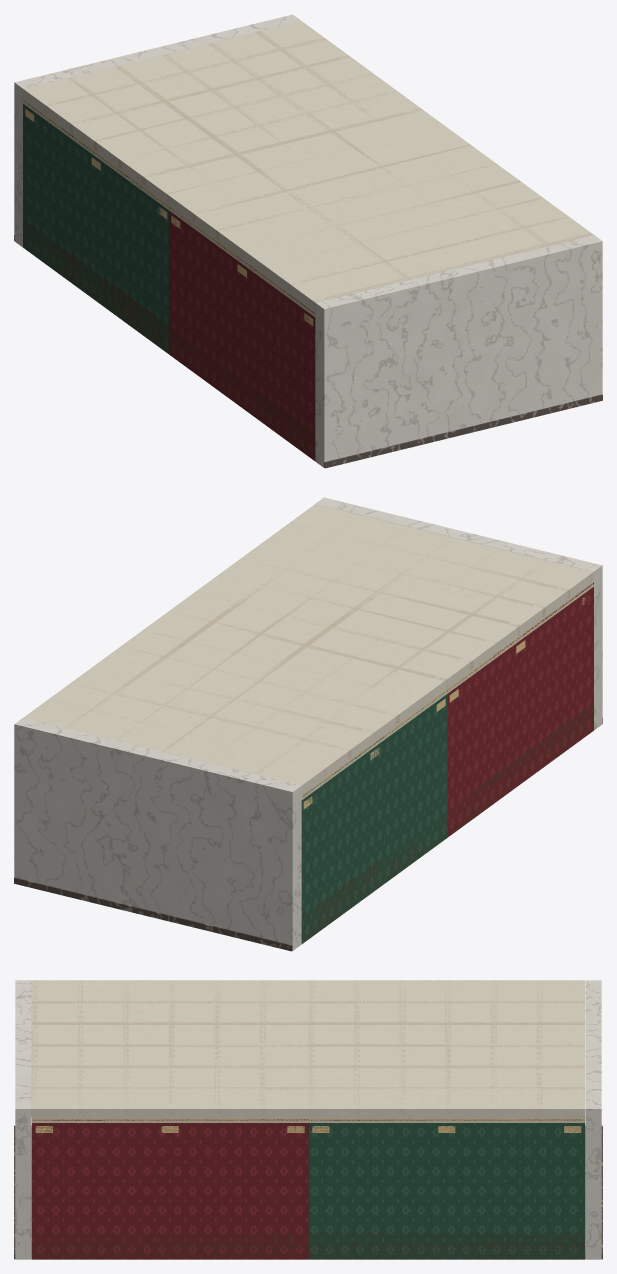
The model's file is european.glb.
3 views of the same model, one above another, from view 1: azimuth 30°, elevation 25°; view 2: azimuth 150°, elevation 25°; view 3: azimuth 270°, elevation 25° (orthographic). The views are drawn at different scales.
Parts seen in each view (by area): view 1: ceil, stone, walls, gold; view 2: ceil, stone, walls, gold; view 3: ceil, walls, stone, gold.
Part boxes in pixels (x1,y1,x2,y2): ceil: (23, 21, 593, 316); stone: (14, 14, 602, 468); walls: (23, 100, 315, 460); gold: (23, 99, 314, 326); ceil: (23, 504, 593, 799); stone: (14, 497, 602, 951); walls: (301, 582, 593, 943); gold: (301, 583, 593, 809); ceil: (31, 980, 584, 1122); walls: (32, 1119, 584, 1259); stone: (14, 980, 602, 1259); gold: (32, 1119, 584, 1132).
Size of the model in its own units: 11 by 6 by 21.29.
Materials: 8 (6 with a texture image).
